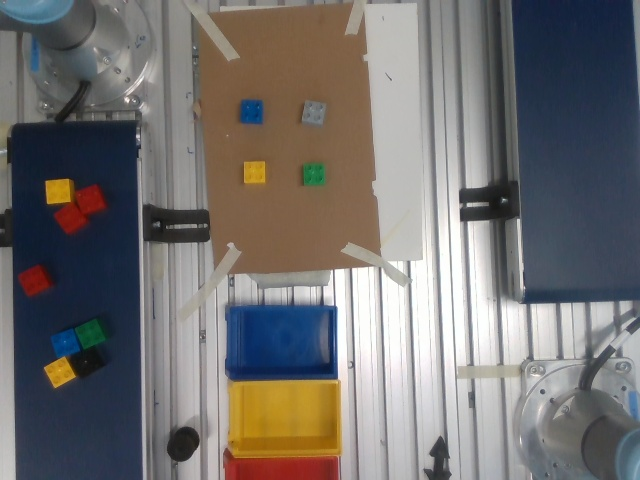duplo_4_blue: (235, 93, 269, 129)
duplo_4_yellow: (232, 152, 274, 191)
ignore: (293, 92, 336, 135), (296, 158, 332, 191)
